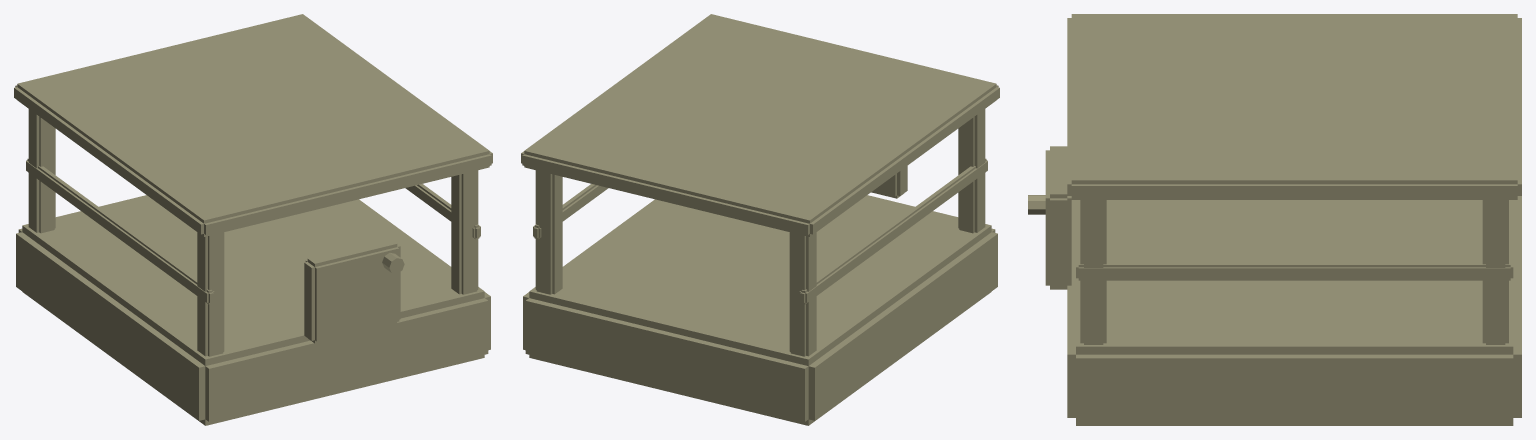
Rendered from mine_layer_rack.glb.
3 renders of one model, left to right at view 1: azimuth 30°, elevation 25°; view 2: azimuth 150°, elevation 25°; view 3: azimuth 270°, elevation 25°, orthographic. The views are drawn at different scales.
Parts seen in each view (by area): view 1: mine_layer_rack; view 2: mine_layer_rack; view 3: mine_layer_rack.
Boxes of the visible parts, x1=… form: mine_layer_rack: x1=14, y1=14, x2=492, y2=425; mine_layer_rack: x1=521, y1=14, x2=999, y2=425; mine_layer_rack: x1=1028, y1=14, x2=1521, y2=425.
Bounding box in the file's own units: 0.46 × 0.3125 × 0.565.
